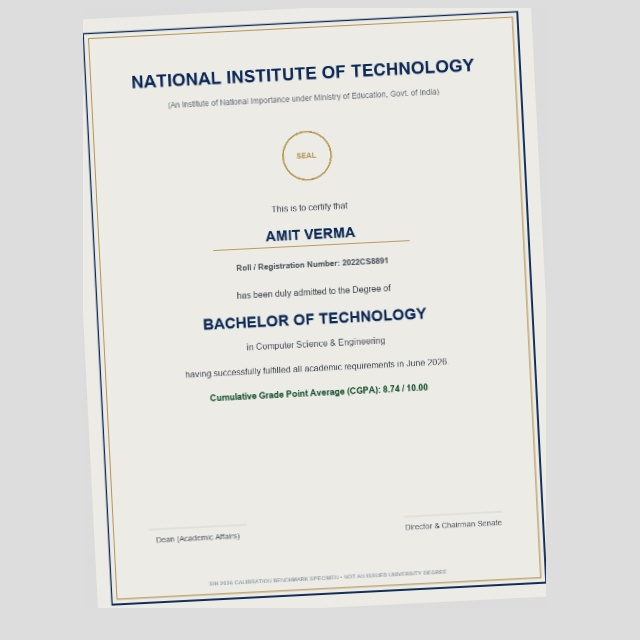marksheet: (83, 8, 546, 608)
